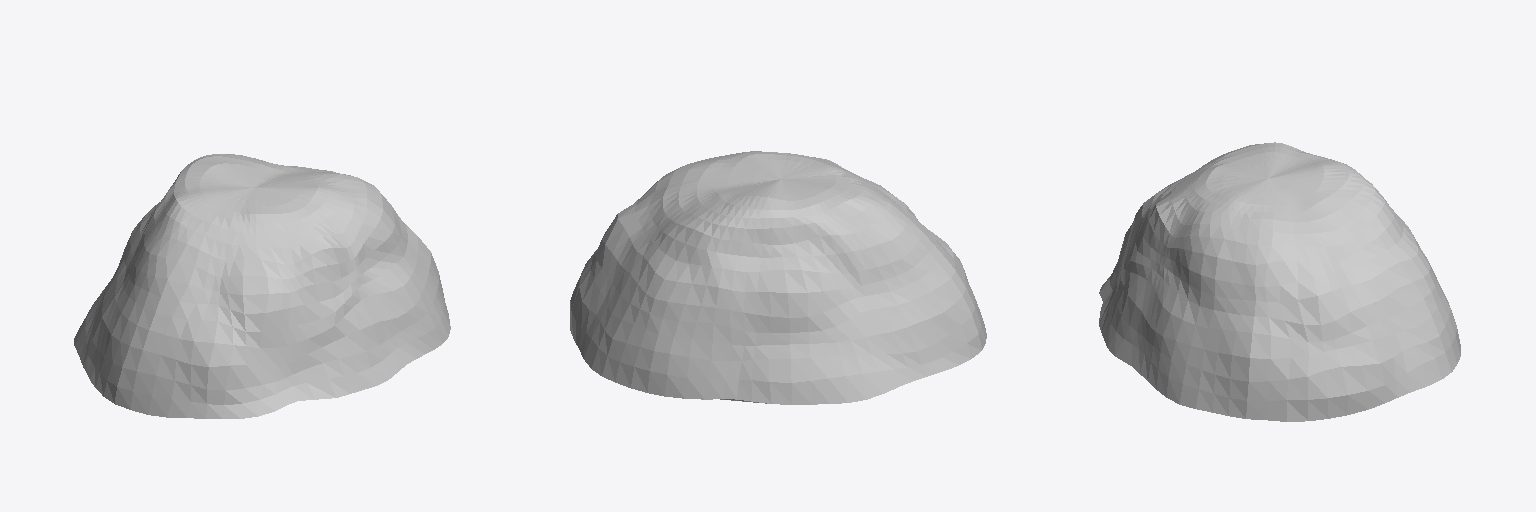
The model's file is rock.obj.
The picture shows the model from 3 angles: view 1: azimuth 30°, elevation 25°; view 2: azimuth 150°, elevation 25°; view 3: azimuth 270°, elevation 25°; orthographic projection.
Parts seen in each view (by area): view 1: Sphere; view 2: Sphere; view 3: Sphere.
Part boxes in pixels (x1,y1,x2,y2): Sphere: (74, 154, 450, 418); Sphere: (570, 151, 986, 404); Sphere: (1099, 142, 1460, 421).
Bounding box in the file's own units: 0.7218 × 0.3085 × 0.6359.